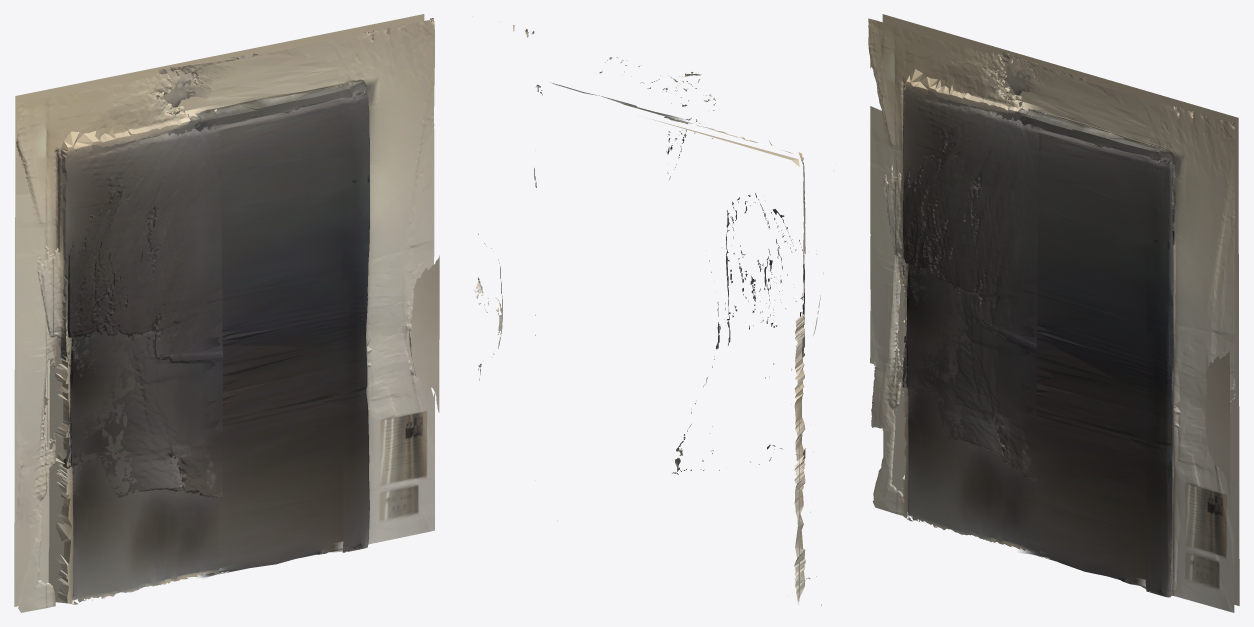
Rendered from Center_D_stone_art_missing.glb.
3 renders of one model, left to right at view 1: azimuth 30°, elevation 25°; view 2: azimuth 150°, elevation 25°; view 3: azimuth 330°, elevation 25°, orthographic. The views are drawn at different scales.
Parts seen in each view (by area): view 1: 元スキャンの壁と案内板_画像UV保持, 作品削除跡_連続した元8K撮影面, 穴の奥だけを覆う裏当て; view 2: 元スキャンの壁と案内板_画像UV保持, 穴の奥だけを覆う裏当て; view 3: 元スキャンの壁と案内板_画像UV保持, 作品削除跡_連続した元8K撮影面, 穴の奥だけを覆う裏当て.
Boxes of the visible parts, left/top/right/bottom form: 元スキャンの壁と案内板_画像UV保持: left=15, top=18, right=439, bottom=612; 作品削除跡_連続した元8K撮影面: left=197, top=37, right=355, bottom=577; 穴の奥だけを覆う裏当て: left=14, top=14, right=424, bottom=606; 元スキャンの壁と案内板_画像UV保持: left=472, top=16, right=833, bottom=605; 穴の奥だけを覆う裏当て: left=647, top=118, right=799, bottom=604; 元スキャンの壁と案内板_画像UV保持: left=868, top=18, right=1235, bottom=612; 作品削除跡_連続した元8K撮影面: left=1019, top=65, right=1160, bottom=593; 穴の奥だけを覆う裏当て: left=882, top=14, right=1239, bottom=605.
Bounding box in the file's own units: 2.56 × 3.13 × 0.3498.
Materials: 3 (2 with a texture image).
